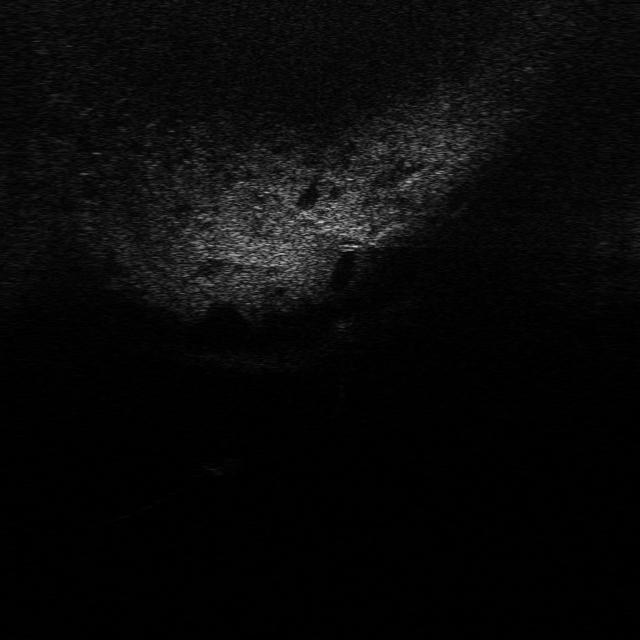ball: (322, 298, 363, 328)
cube: (192, 453, 246, 476)
